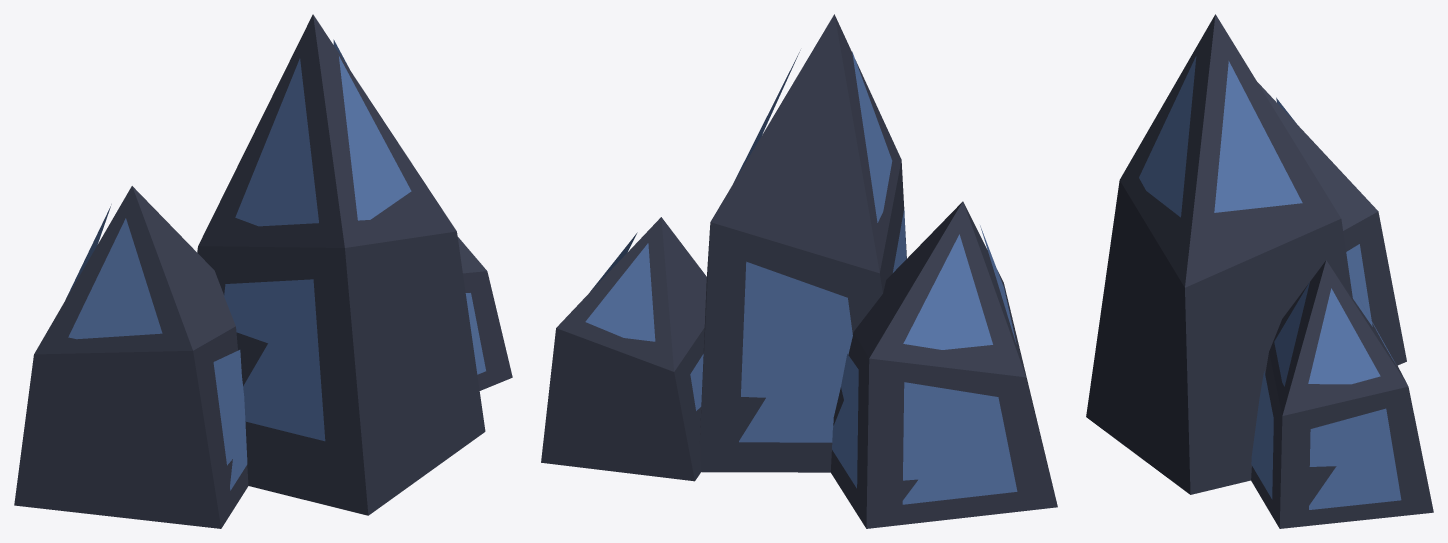
3 views of the same model, side by side, from view 1: azimuth 30°, elevation 25°; view 2: azimuth 150°, elevation 25°; view 3: azimuth 270°, elevation 25° (orthographic). The views are drawn at different scales.
Parts seen in each view (by area): view 1: d6cf58b94d56bdd65531ce0bdf248b46e6b1f474d1754694286775089015; view 2: d6cf58b94d56bdd65531ce0bdf248b46e6b1f474d1754694286775089015; view 3: d6cf58b94d56bdd65531ce0bdf248b46e6b1f474d1754694286775089015.
Part boxes in pixels (box(x1,y1,x2,y2)): d6cf58b94d56bdd65531ce0bdf248b46e6b1f474d1754694286775089015: box(14, 14, 512, 528); d6cf58b94d56bdd65531ce0bdf248b46e6b1f474d1754694286775089015: box(541, 14, 1057, 528); d6cf58b94d56bdd65531ce0bdf248b46e6b1f474d1754694286775089015: box(1086, 14, 1433, 528).
Size of the model in its own units: 1 by 0.845 by 0.65.
